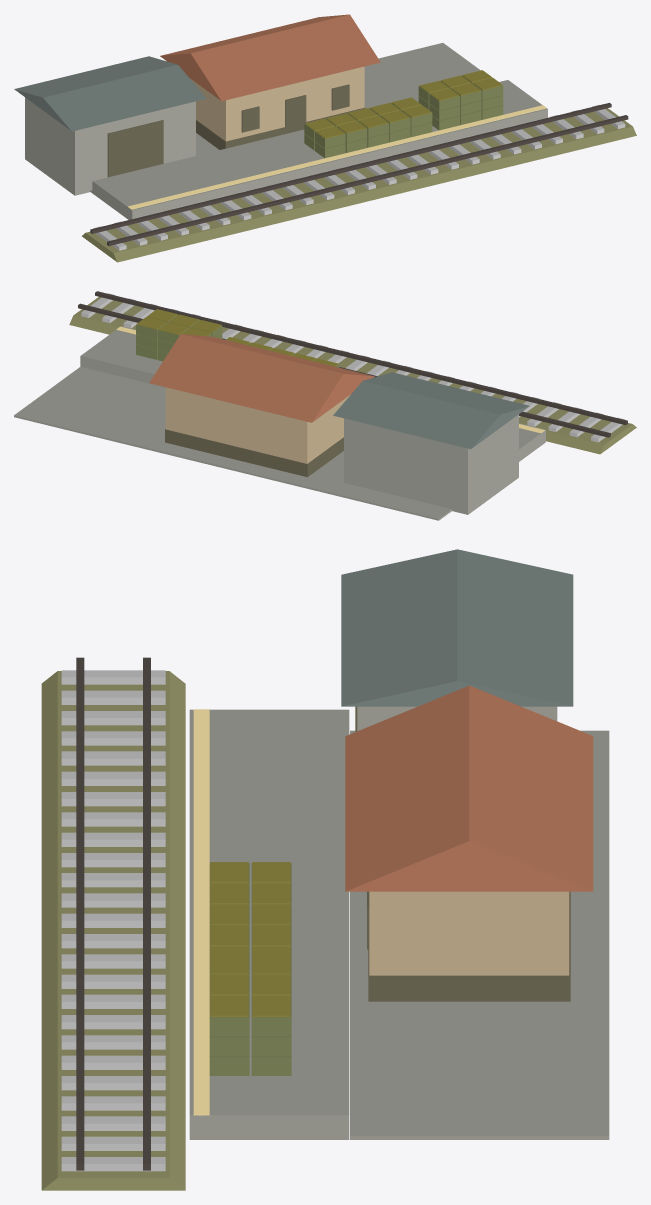
File: SM_EstacionH1_v2_Almacen_LOD1.fbx
The picture shows the model from 3 angles, top to bottom: view 1: azimuth 30°, elevation 25°; view 2: azimuth 150°, elevation 25°; view 3: azimuth 270°, elevation 25°; orthographic projection. The views are drawn at different scales.
Parts seen in each view (by area): view 1: SM_estacion_h1_v2_LOD1; view 2: SM_estacion_h1_v2_LOD1; view 3: SM_estacion_h1_v2_LOD1.
Boxes of the visible parts, x1,y1,x2,y2 form: SM_estacion_h1_v2_LOD1: [14, 14, 636, 262]; SM_estacion_h1_v2_LOD1: [14, 291, 636, 520]; SM_estacion_h1_v2_LOD1: [41, 549, 609, 1190].
Bounding box in the file's own units: 30 × 4.8 × 14.2.
